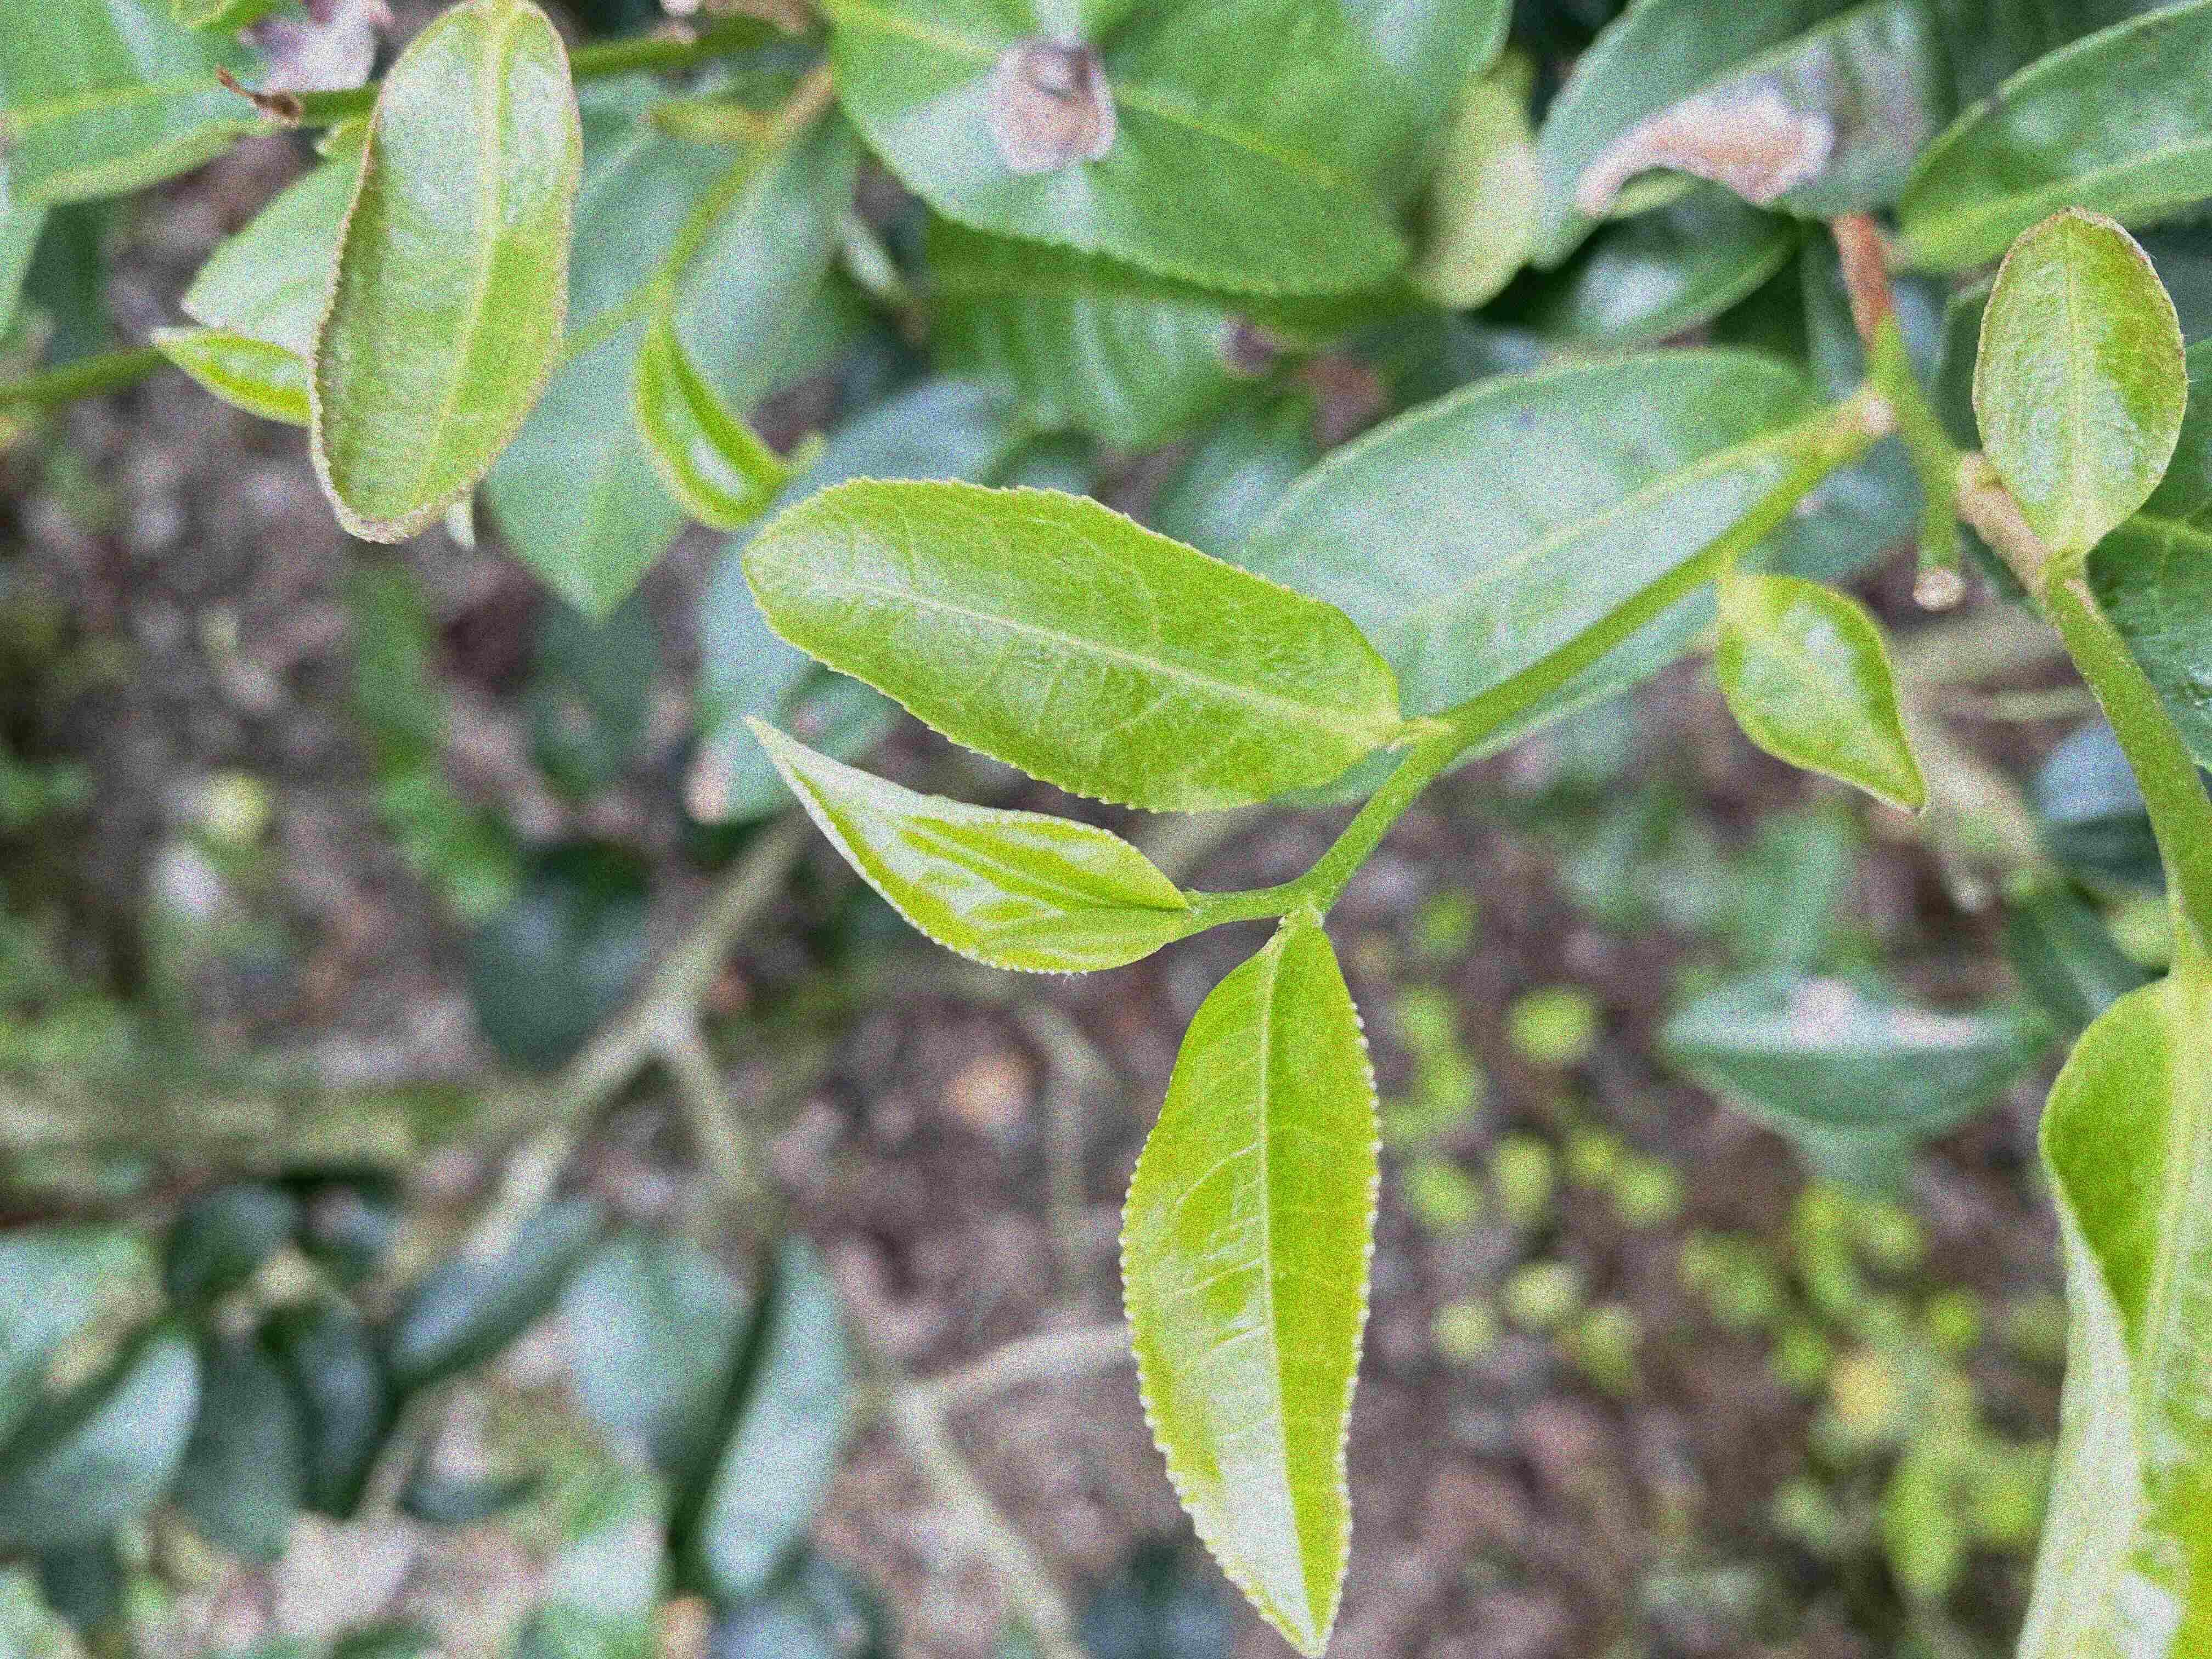healthy: (742, 472, 1402, 817), (1118, 925, 1388, 1656), (740, 716, 1188, 978)
tanju_high: (812, 3, 1512, 298), (1533, 3, 1993, 272)
tanju_low: (303, 0, 589, 547), (1968, 204, 2191, 552)
